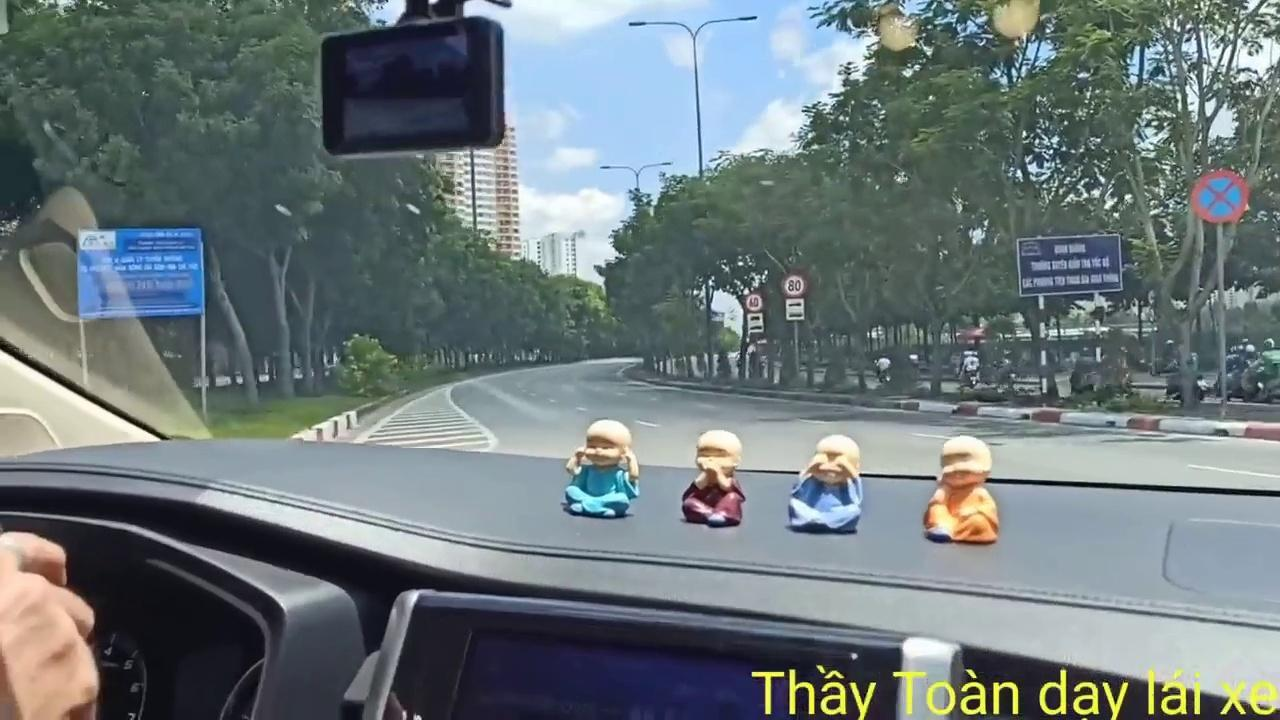Biển phụ: (784, 298, 806, 320), (747, 314, 765, 332)
Cấm dừng - Cấm đỗ: (1192, 165, 1250, 225)
GIơi hạn tốc độ 60Km/h: (744, 289, 764, 312)
Giới hạn tốc độ 80Km/h: (782, 273, 807, 297)
Đuờng hẹp: (76, 224, 205, 317)
